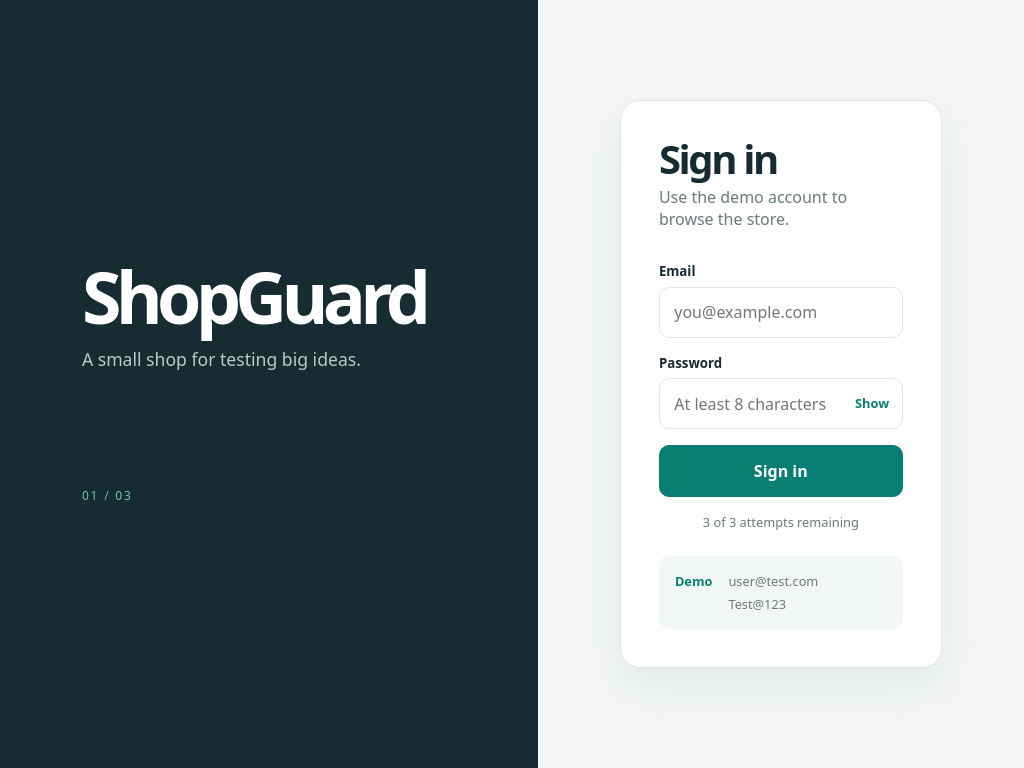
it: Login Page › should show password validation error
The width and height of the screenshot is (1024, 768).
Type "user@test.com" into the field with test id "email-input".
click(781, 313); type("user@test.com")  # box [659,287,903,338]
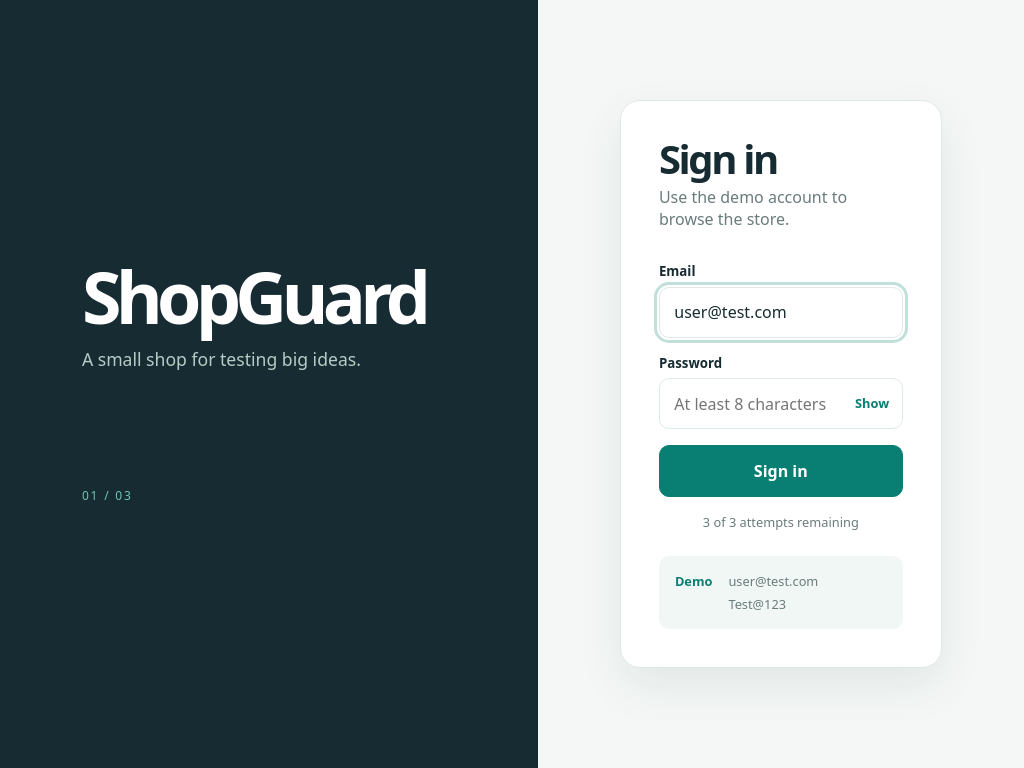
Type "test" into the password field with test id "password-input".
click(781, 404); type("test")  # box [659,378,903,429]
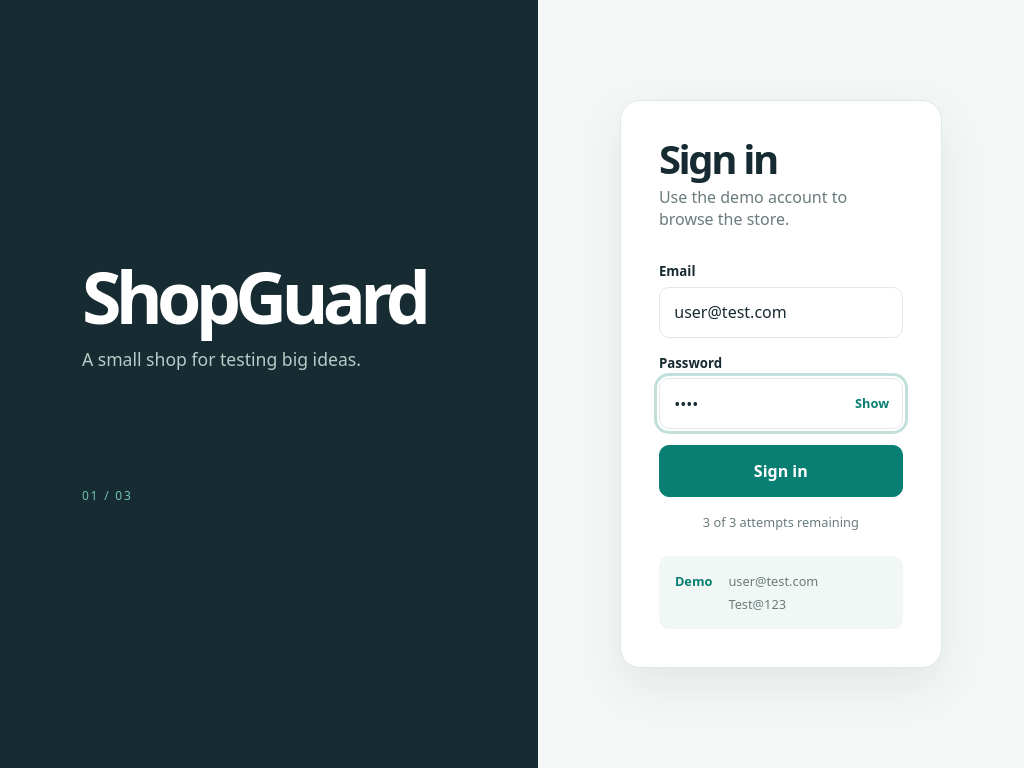
Click the button with test id "login-button".
click(781, 471)  # box [659,445,903,496]
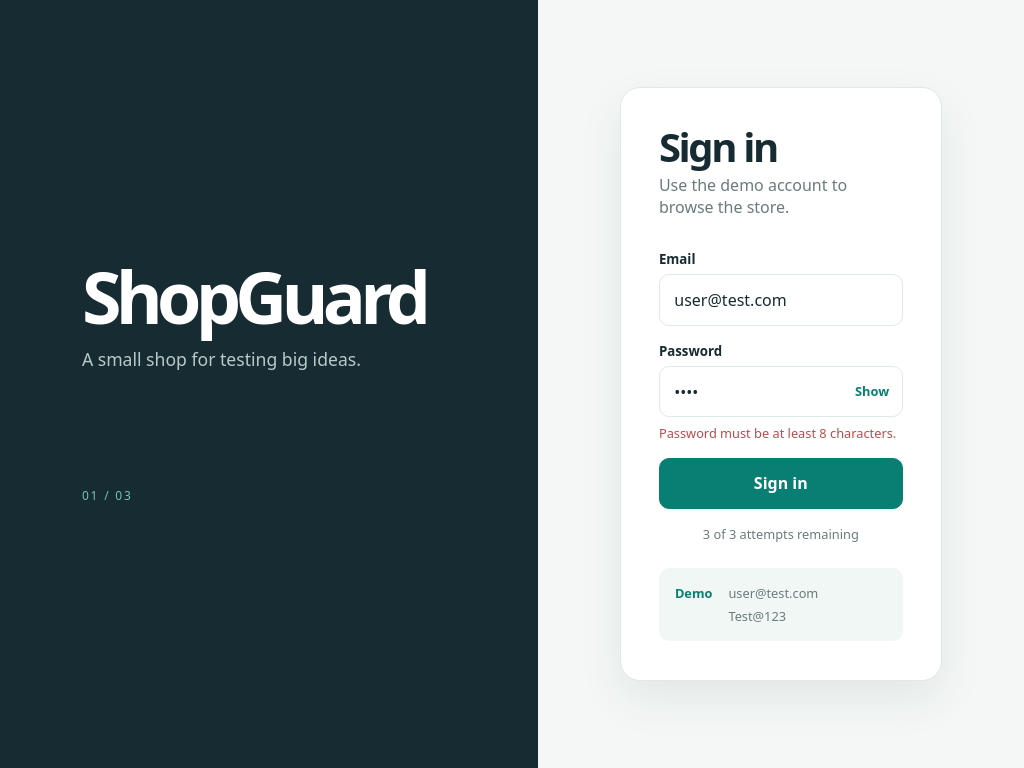
Check: the text "Password must be at least 8 characters." is shown, box [659,424,903,442]
